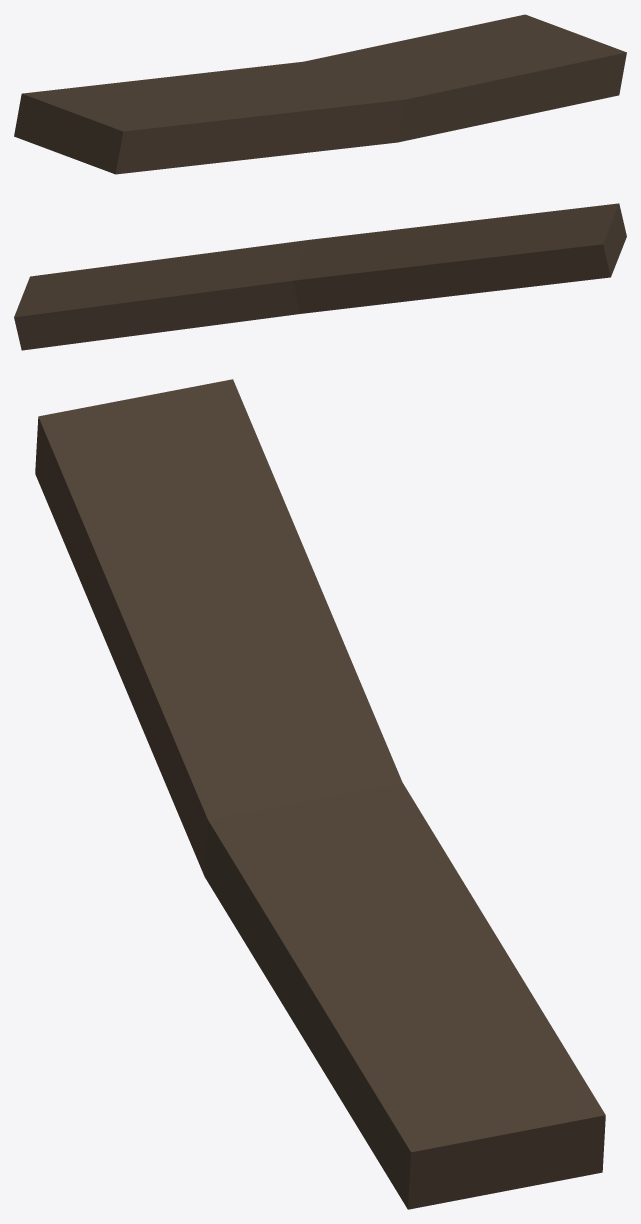
The model's file is Fireplace_modern_Log5.FBX.
The picture shows the model from 3 angles, top to bottom: view 1: azimuth 30°, elevation 25°; view 2: azimuth 150°, elevation 25°; view 3: azimuth 270°, elevation 25°; orthographic projection. The views are drawn at different scales.
Parts seen in each view (by area): view 1: Fireplace_modern_Log5; view 2: Fireplace_modern_Log5; view 3: Fireplace_modern_Log5.
Boxes of the visible parts, x1,y1,x2,y2 form: Fireplace_modern_Log5: (14, 14, 626, 174); Fireplace_modern_Log5: (14, 203, 626, 350); Fireplace_modern_Log5: (35, 379, 605, 1209).
Size of the model in its own units: 31.64 by 9.07 by 14.6.
1 material, 1 textured.
